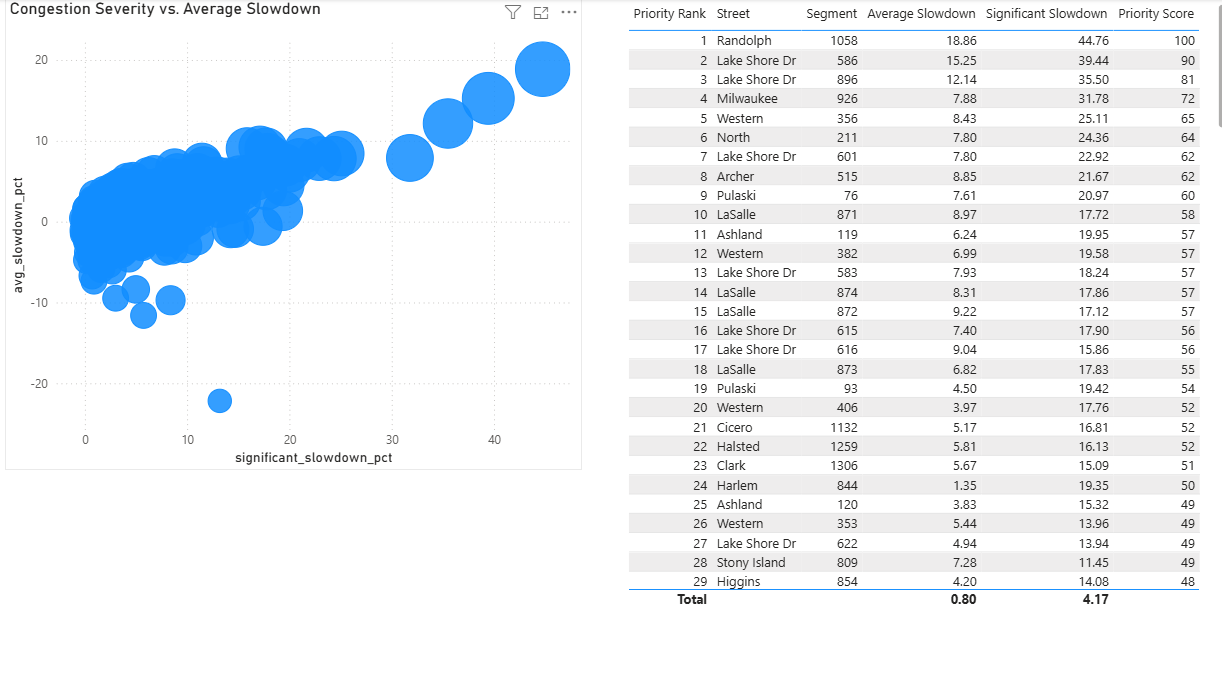

What the dashboard file says about the page in this screenshot:
{"tool":"powerbi","page":{"name":"Priority Ranking","canvas":[1280,720],"ordinal":2},"visuals":[{"type":"scatterChart","title":"Congestion Severity vs. Average Slowdown","fields":{"X":["priority_ranking.significant_slowdown_pct"],"Y":["priority_ranking.avg_slowdown_pct"],"Size":["Avg(priority_ranking.priority_score)"]},"box":[10.4,0,597.5,487.8],"z":0},{"type":"tableEx","fields":{"Values":["priority_ranking.priority_rank","priority_ranking.street","priority_ranking.segment_id","Avg(priority_ranking.avg_slowdown_pct)","Avg(priority_ranking.significant_slowdown_pct)","priority_ranking.priority_score"]},"box":[650.4,0,629.6,635.9],"z":1000}]}

Visuals, with their boxes in screenshot pixels (x1, y1, x2, y2), scaled from the page's 1280x720 canvas onto the 1222x680 screenshot:
"Congestion Severity vs. Average Slowdown" scatterChart: (10,0,580,461)
tableEx - priority_ranking.priority_rank x priority_ranking.street: (621,0,1221,601)
